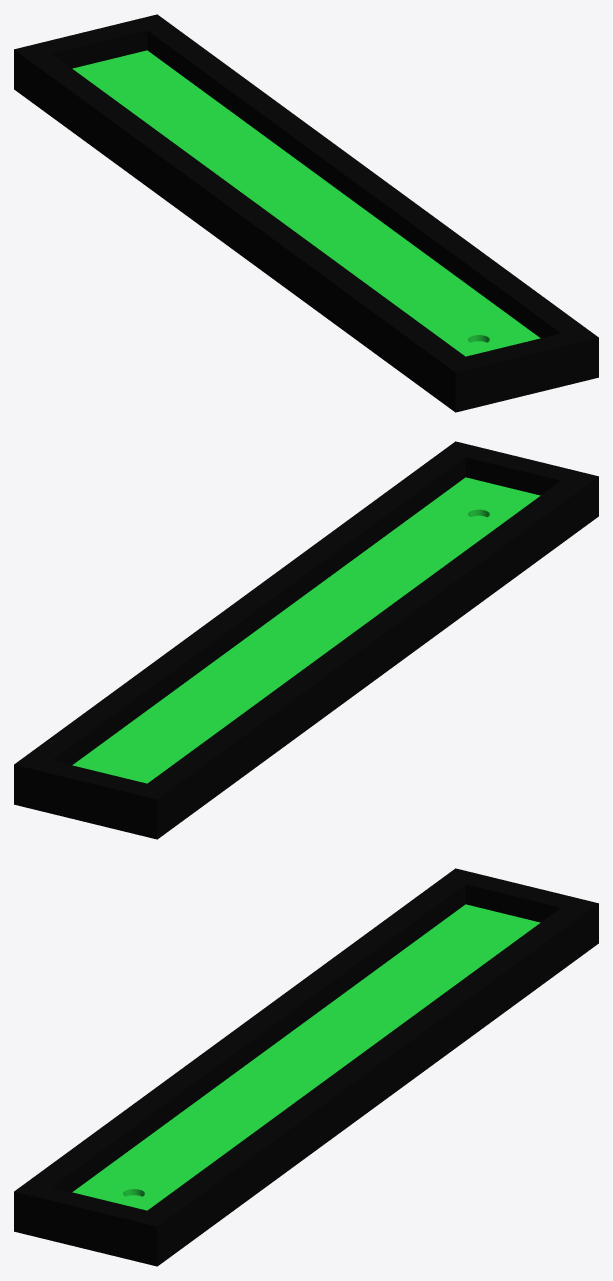
Rendered from firstMap.fbx.
3 views of the same model, one above another, from view 1: azimuth 30°, elevation 25°; view 2: azimuth 150°, elevation 25°; view 3: azimuth 330°, elevation 25° (orthographic).
Parts seen in each view (by area): view 1: Cube.010; view 2: Cube.010; view 3: Cube.010.
Boxes of the visible parts, bbox=[...] form: Cube.010: bbox=[14, 14, 598, 412]; Cube.010: bbox=[14, 441, 598, 839]; Cube.010: bbox=[14, 868, 598, 1266].
Size of the model in its own units: 600 by 160 by 3200.
